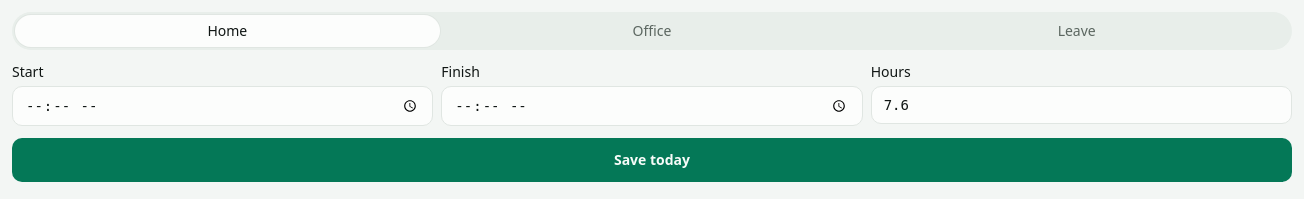
it: DayEditor › times › keeps a partial hours entry while it is typed and tidies it when the field is left
Type "08:30" into the time field labelled "Start" at x=223, y=106, box [12, 86, 433, 126]
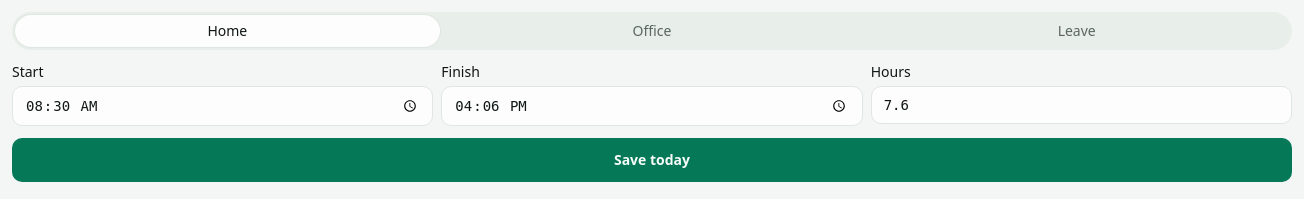
Replace the text in the field labelled "Hours" with "7." at x=1081, y=105, box [871, 86, 1292, 124]
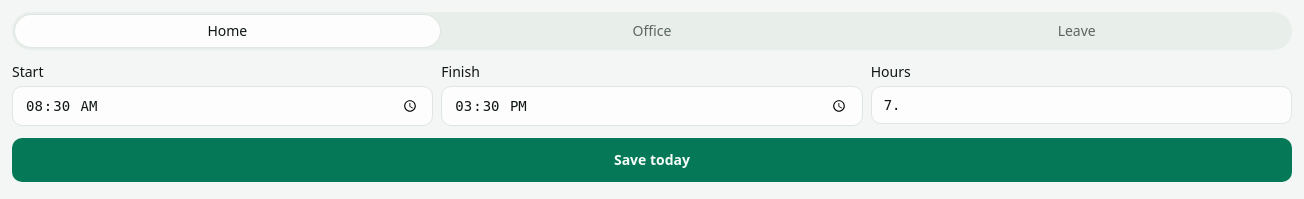
Expected: the time field labelled "Finish" holds "15:30", [441, 86, 863, 126]
Leave the field labelled "Hours", box [871, 86, 1292, 124]
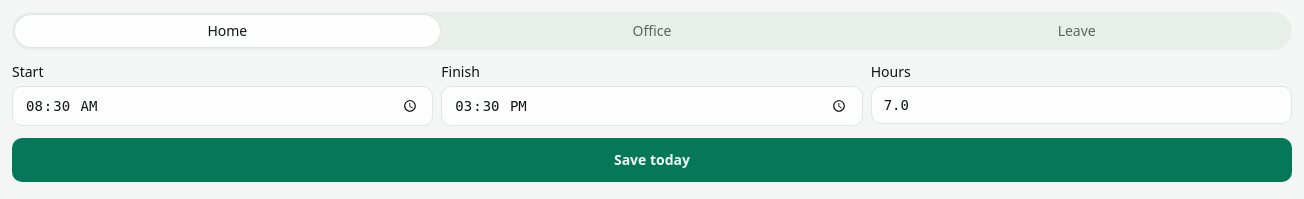
Expected: the field labelled "Hours" holds "7.0", [871, 86, 1292, 124]
